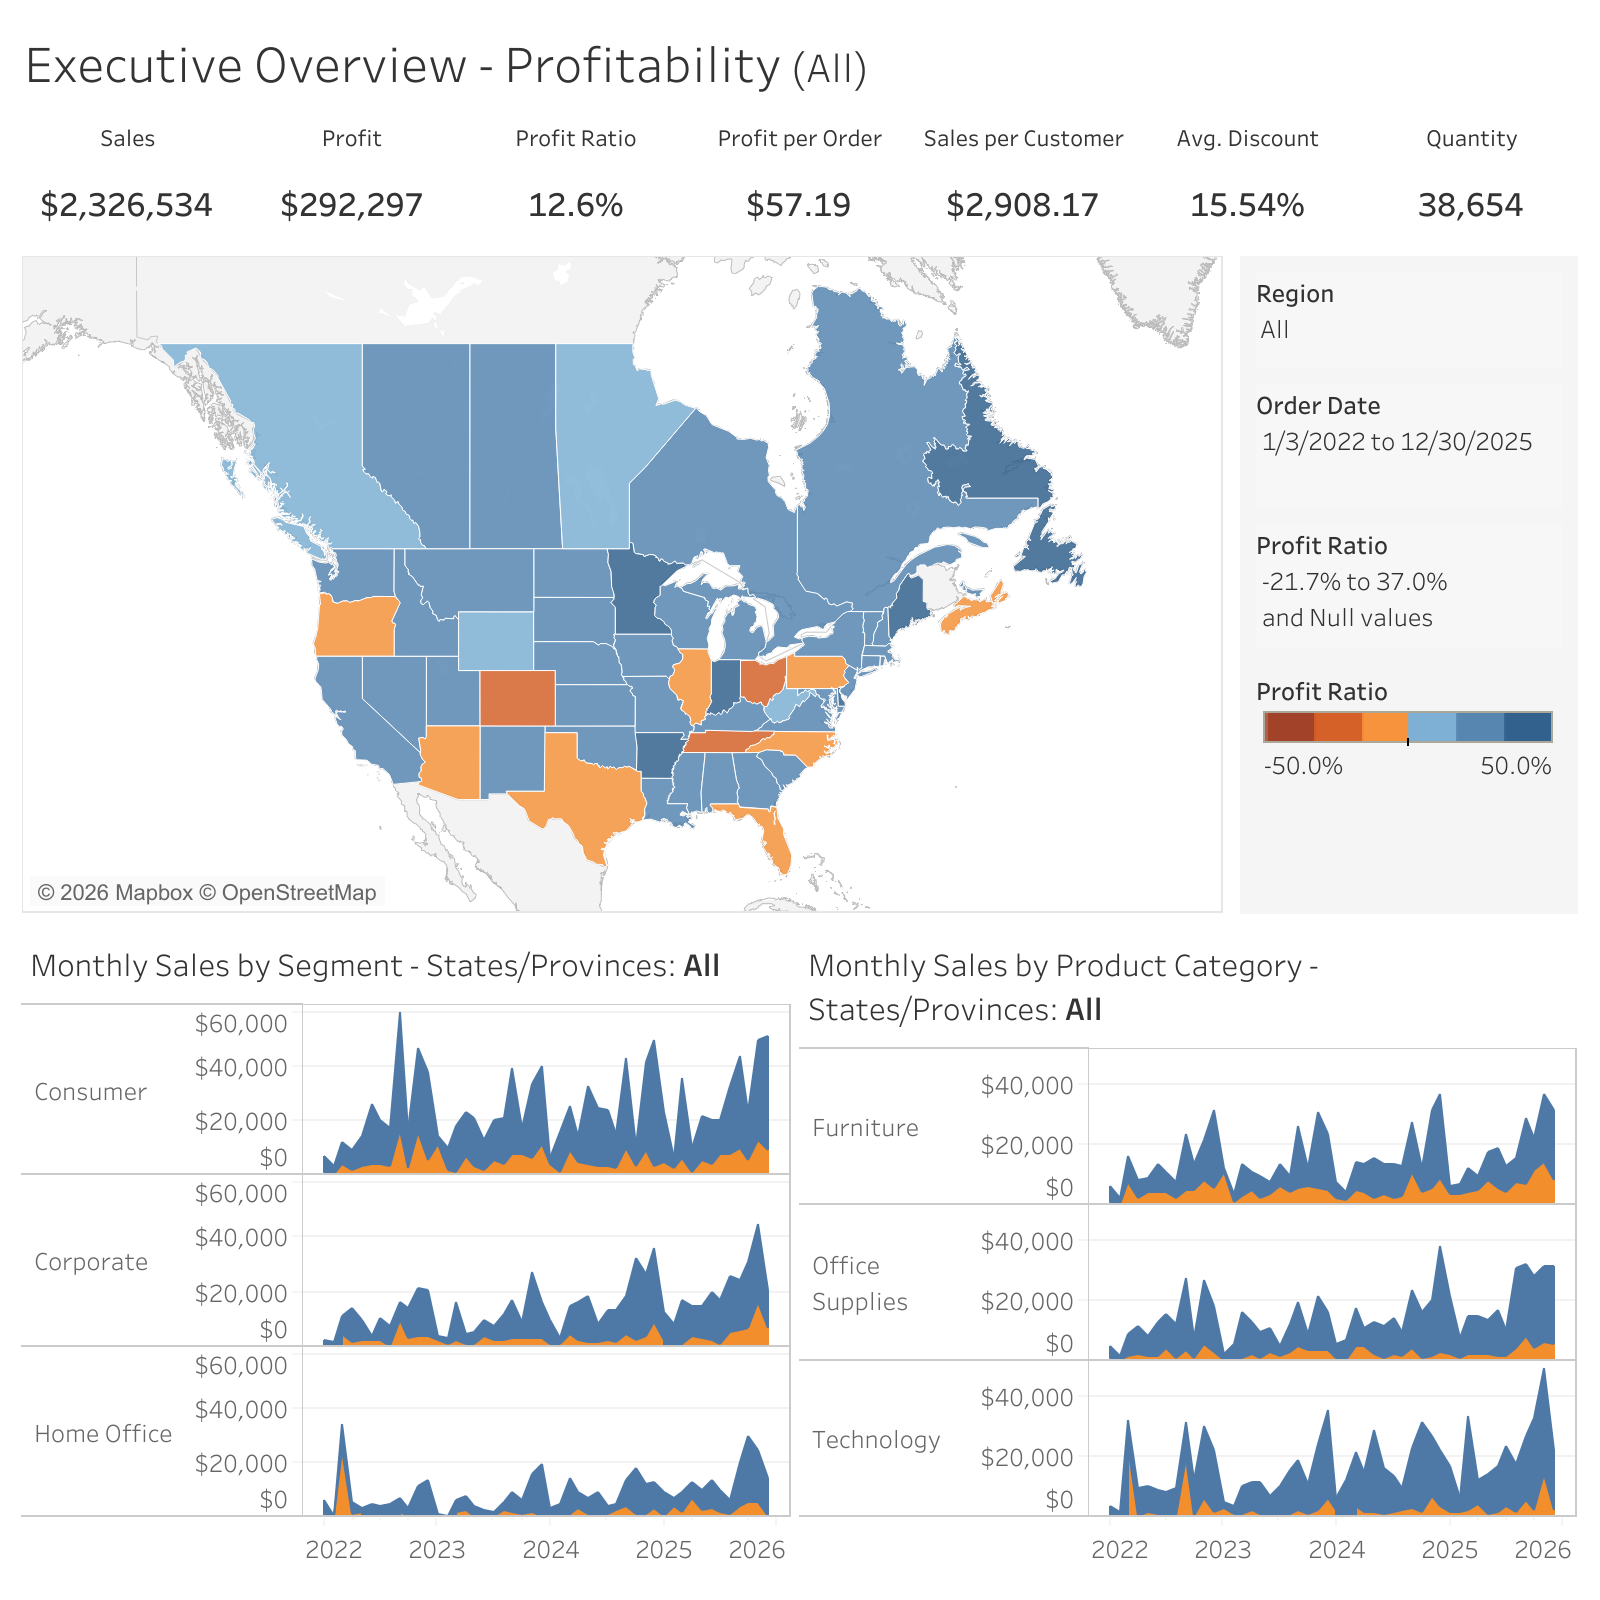

This screenshot's page, from the dashboard's own definition file:
{"tool":"tableau","page":{"name":"Overview","canvas":[1000,1000],"units":"permille","ordinal":3},"visuals":[{"type":"worksheet","title":"Total Sales","mark":"Automatic","box":[5.7,10.1,988.6,168.1]},{"type":"worksheet","title":"Sale Map","mark":"Multipolygon","box":[5.7,178.2,844.6,484.2]},{"type":"filter","title":"Sale Map","param":"[federated.10nnk8d1vgmw8q17yu76u06pnbcj].[none:Region:nk]","box":[856.8,189.7,131,74.7]},{"type":"filter","title":"Sale Map","param":"[federated.10nnk8d1vgmw8q17yu76u06pnbcj].[none:Order Date:qk]","box":[856.8,264.4,131,99.1]},{"type":"filter","title":"Sale Map","param":"[federated.10nnk8d1vgmw8q17yu76u06pnbcj].[usr:Calculation_9921103144103743:qk]","box":[856.8,363.5,131,99.1]},{"type":"legend","title":"Sale Map","param":"[federated.10nnk8d1vgmw8q17yu76u06pnbcj].[usr:Calculation_9921103144103743:qk]","box":[856.8,462.6,131,93.4]},{"type":"worksheet","title":"Sales by Segment","mark":"Area","rows":["Segment","Sales"],"cols":["Order Date"],"box":[9,668.1,489.4,316.1]},{"type":"worksheet","title":"Sales by Product","mark":"Area","rows":["Category","Sales"],"cols":["Order Date"],"box":[498.4,668.1,492.7,316.1]}]}

Visuals, with their boxes on the dashboard's canvas, which has no fixed pixel size, in thousandths of its width and height (x1, y1, x2, y2). These are canvas units, not pixel positions in the 1600x1600 screenshot, which may show the page scaled, cropped or inside an application window:
"Total Sales" worksheet: <box>6,10,994,178</box>
"Sale Map" worksheet (Multipolygon marks): <box>6,178,850,662</box>
"Sale Map" filter: <box>857,190,988,264</box>
"Sale Map" filter: <box>857,264,988,364</box>
"Sale Map" filter: <box>857,364,988,463</box>
"Sale Map" legend: <box>857,463,988,556</box>
"Sales by Segment" worksheet (Area marks): <box>9,668,498,984</box>
"Sales by Product" worksheet (Area marks): <box>498,668,991,984</box>
